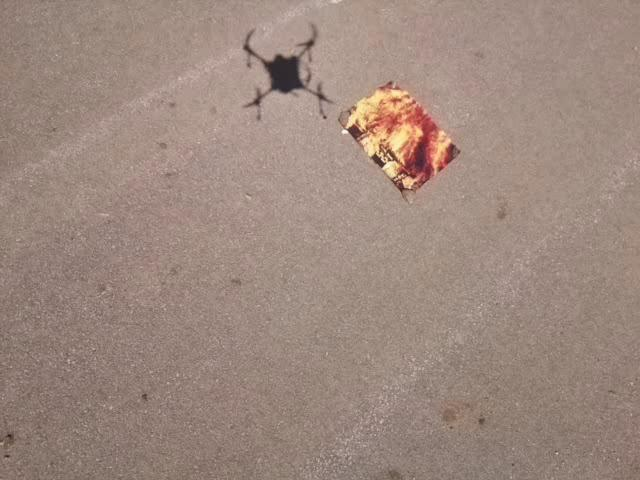fire-poster: (336, 79, 461, 204)
